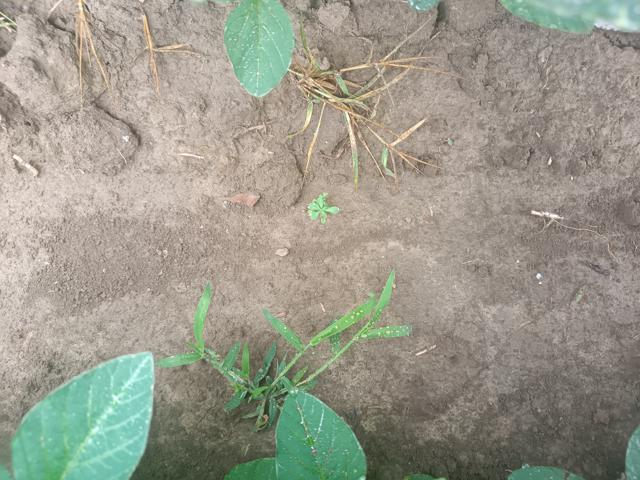bad weed: (153, 282, 423, 403), (280, 43, 450, 199), (276, 182, 349, 229)
